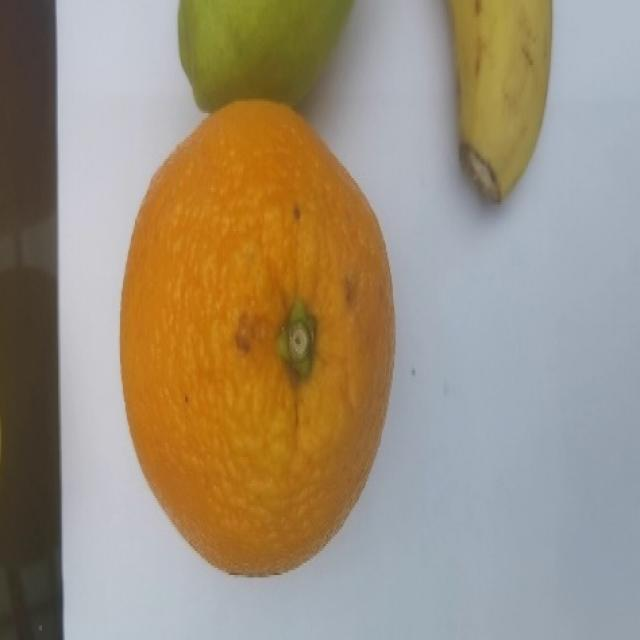Banana: (443, 0, 553, 203)
Orange: (118, 97, 396, 577)
